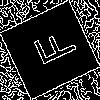F: (24, 25, 79, 72)
